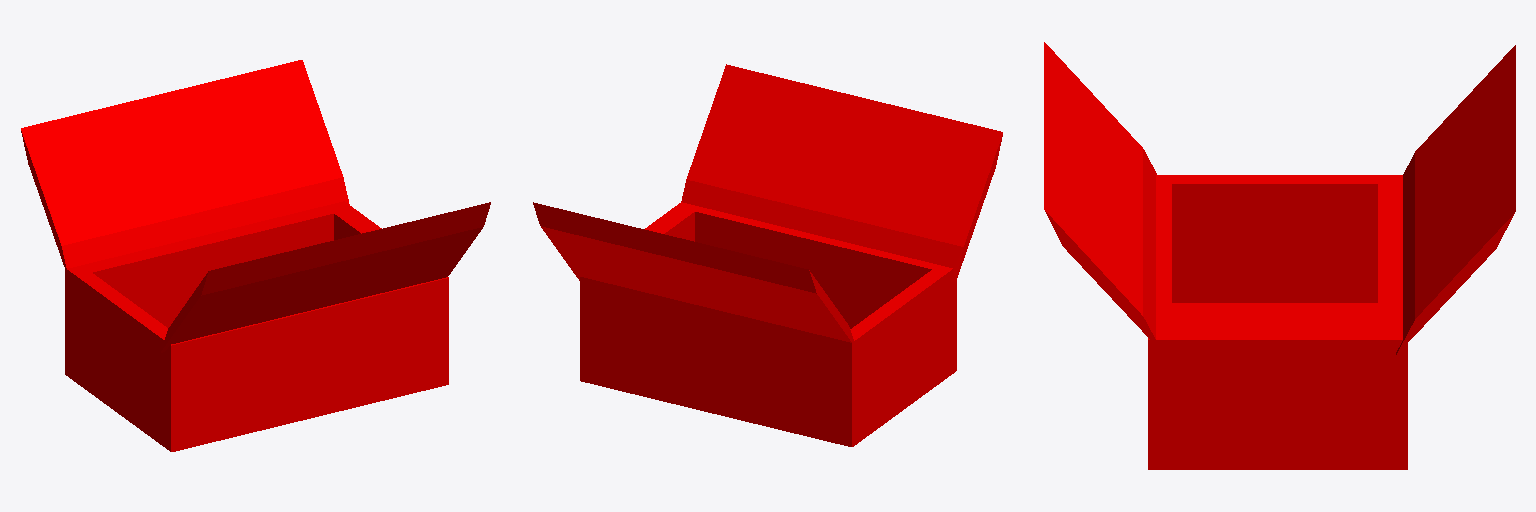
The robot description file, URDF, robot "box_":
<robot name="box_">
<link name="baseLink">
    <contact>
        <lateral_friction value="1.0"/>
        <rolling_friction value="0.0"/>
        <contact_cfm value="0.0"/>
        <contact_erp value="1.0"/>
    </contact>
    <inertial>
        <origin rpy="0.0 0.0 0.0" xyz="0.0 0.0 0.0"/>
        <mass value="0.2"/>
        <inertia ixx="1.0" ixy="0.0" ixz="0.0" iyy="1.0" iyz="0.0" izz="1.0"/>
    </inertial>
    <visual>
        <origin rpy="0.0 0.0 0.0" xyz="0.0 0.0 0.0"/>
        <geometry>
            <mesh filename="box_.obj" scale="1.0 1.0 1.0"/>
        </geometry>
        <material name="red">
            <color rgba="1.0 0.0 0.0 1.0"/>
        </material>
    </visual>
    <collision>
        <origin rpy="0.0 0.0 0.0" xyz="0.0 0.0 0.0"/>
        <geometry>
            <mesh filename="box__vhacd.obj" scale="1.0 1.0 1.0"/>
        </geometry>
    </collision>
</link>
</robot>

--- What the picture shows (computed from the rendered views, not written in the file) ---
3 views of the same robot in one strip: view 1: azimuth 30°, elevation 25°; view 2: azimuth 150°, elevation 25°; view 3: azimuth 270°, elevation 25° (orthographic).
Model box_ with 1 links and 0 joints (none), rooted at baseLink, posed every joint at zero.
Visible links, largest first — view 1: baseLink; view 2: baseLink; view 3: baseLink.
Boxes of the visible links, x1=… form: baseLink: x1=21, y1=60, x2=490, y2=451; baseLink: x1=533, y1=64, x2=1002, y2=446; baseLink: x1=1044, y1=42, x2=1515, y2=469.
Bounding box of the posed robot: 0.1436 × 0.1675 × 0.1022 m (x, y, z).
Meshes: 1 distinct files referenced, 1 mesh visuals loaded (1 OBJ).
